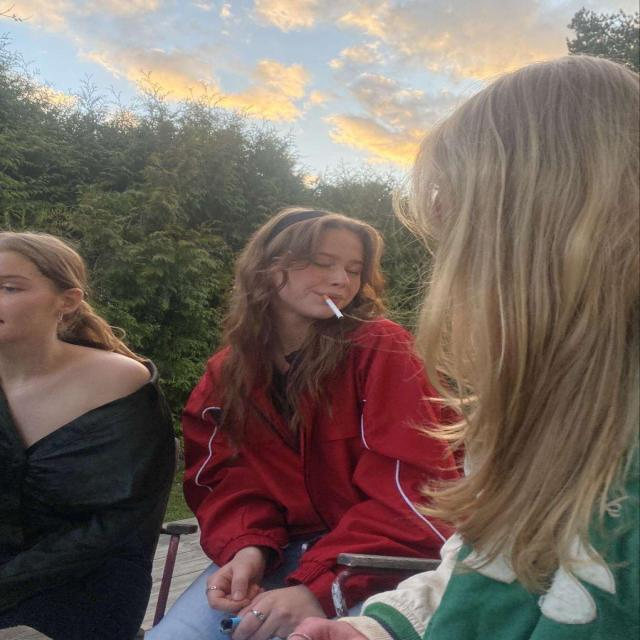cigarette: (308, 287, 360, 341)
